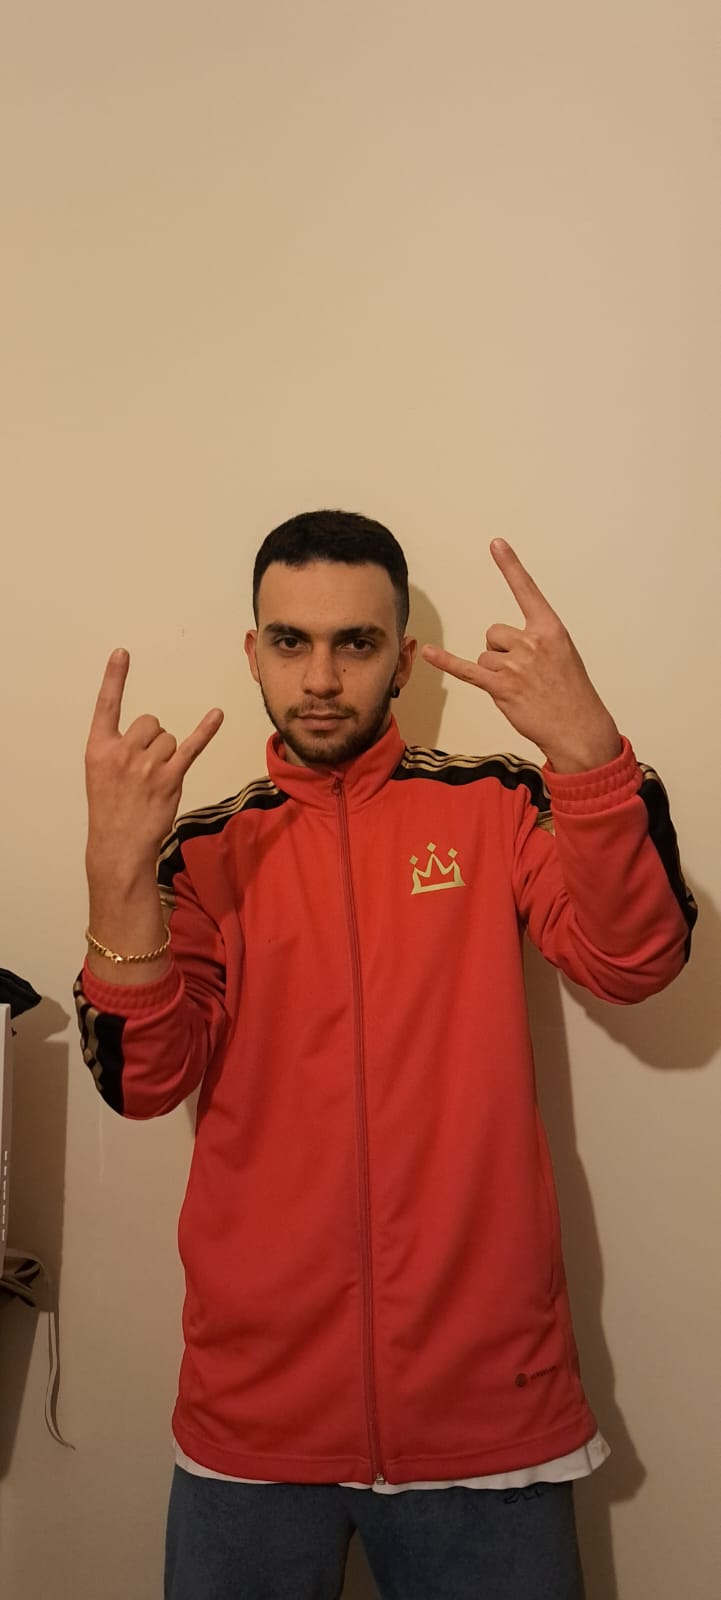rock: (78, 532, 600, 857)
